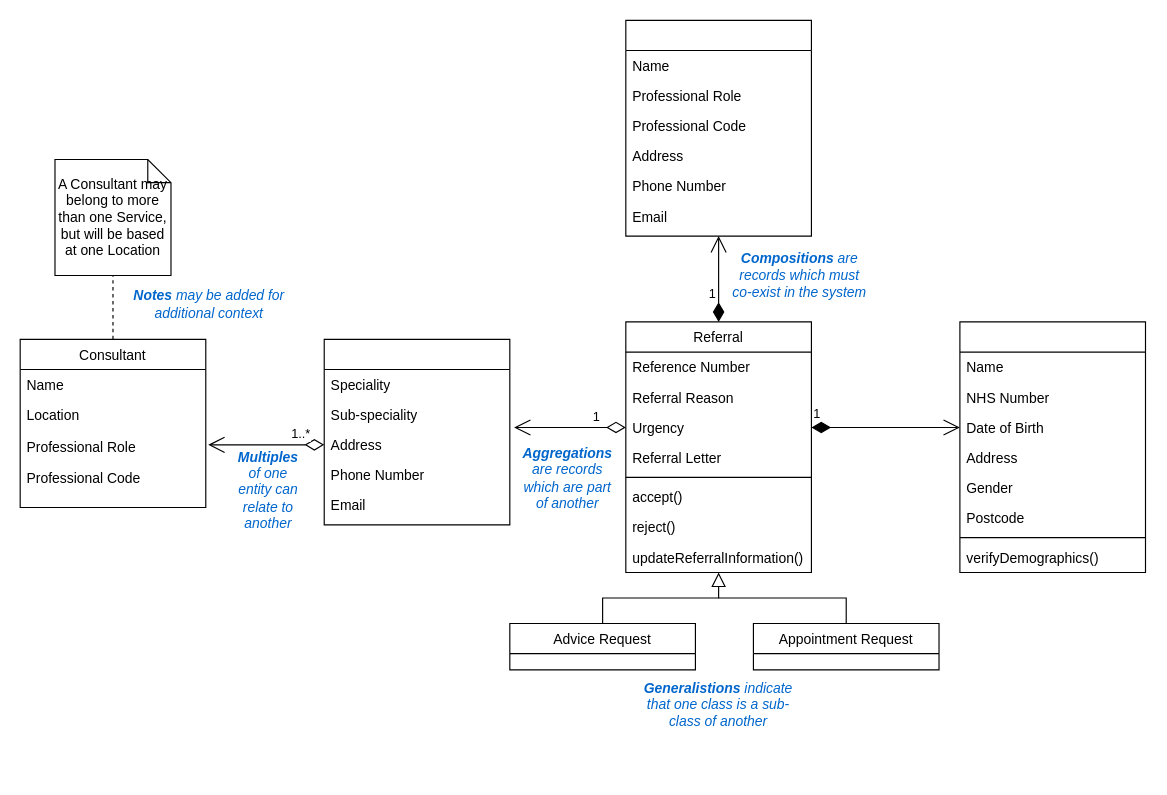
The diagram is 1167 pixels wide and 795 high, and some of its shapes have lost their labels. Each missing label, with the box of its shape:
Patient: (959, 321, 1146, 572)
Referred to Service: (323, 338, 510, 525)
Referrer: (625, 19, 811, 236)
